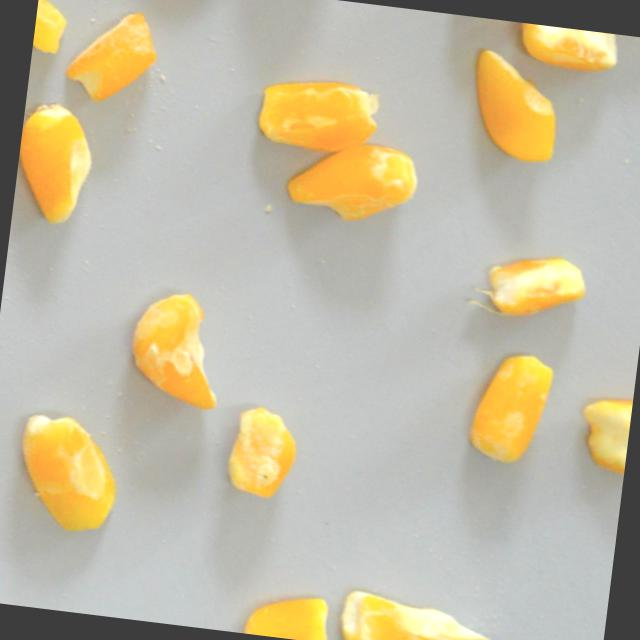dañado: (1, 401, 134, 542), (115, 282, 232, 416), (280, 133, 425, 232), (460, 41, 569, 169), (10, 96, 107, 233), (463, 345, 564, 473), (250, 70, 391, 161), (56, 2, 168, 113), (461, 242, 599, 332), (330, 582, 507, 640), (513, 22, 624, 79), (236, 587, 341, 640), (572, 386, 632, 472)
pelicula: (30, 0, 75, 61)
punto_negro: (217, 400, 304, 506)
